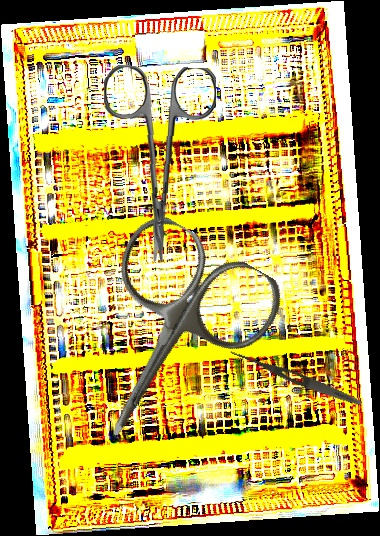Dressing Forceps: (227, 347, 364, 409)
Iris Scissors: (41, 206, 293, 476), (98, 64, 217, 264)
